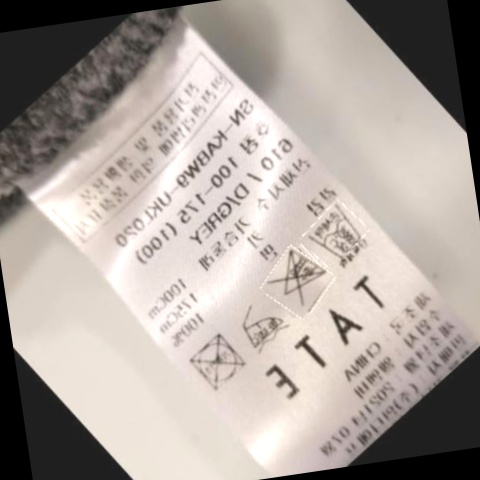DN_tumble_dry: (186, 333, 248, 397)
hand_wash: (307, 205, 369, 264)
iron_low: (235, 297, 290, 355)
non_chlorine_bleach: (265, 246, 328, 309)
